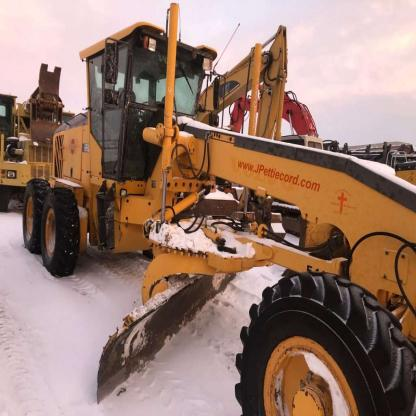bull_dozer/loader/grader: (20, 11, 416, 415)
